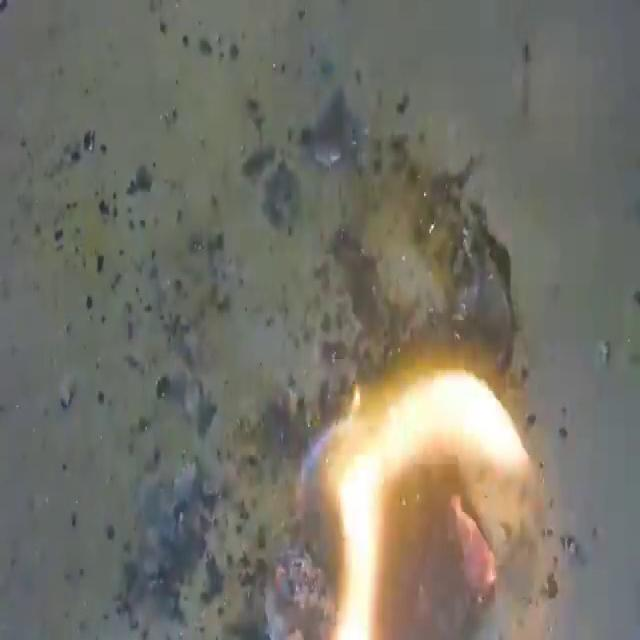Fire: (3, 4, 634, 636), (299, 359, 548, 638)
